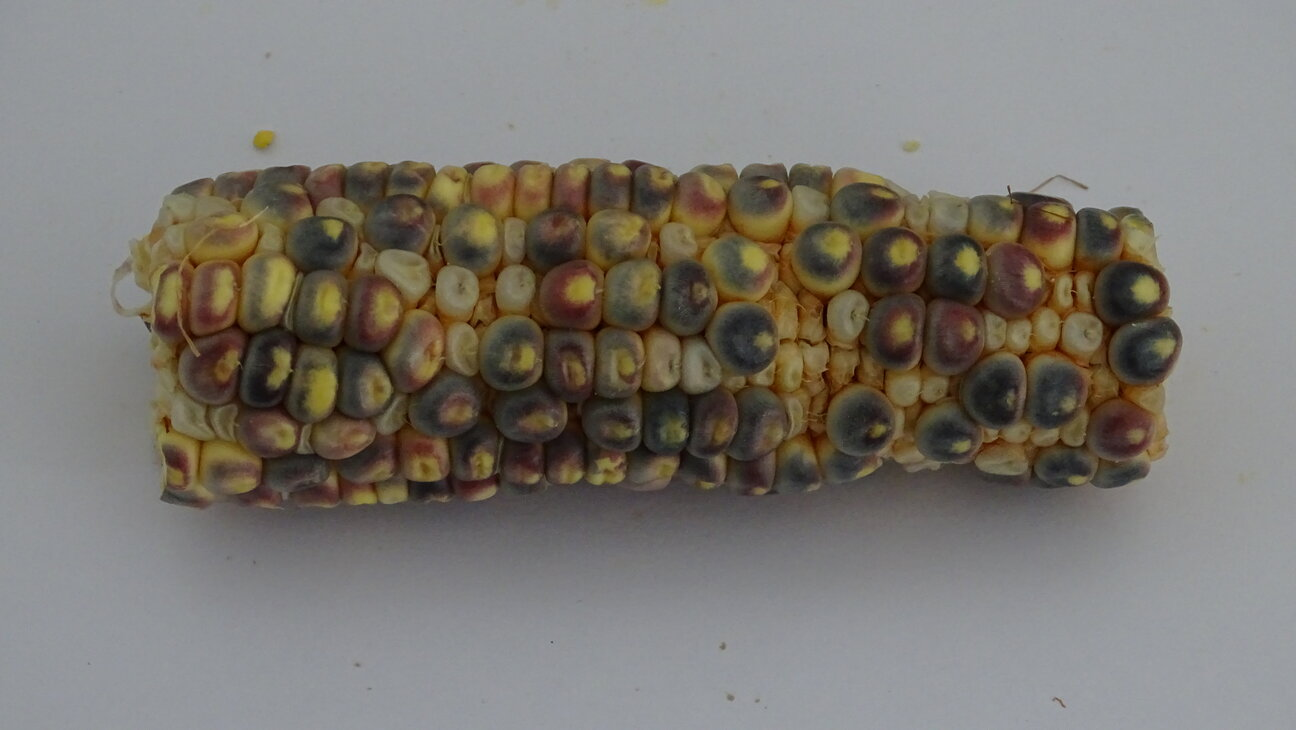corn: (730, 178, 793, 237)
